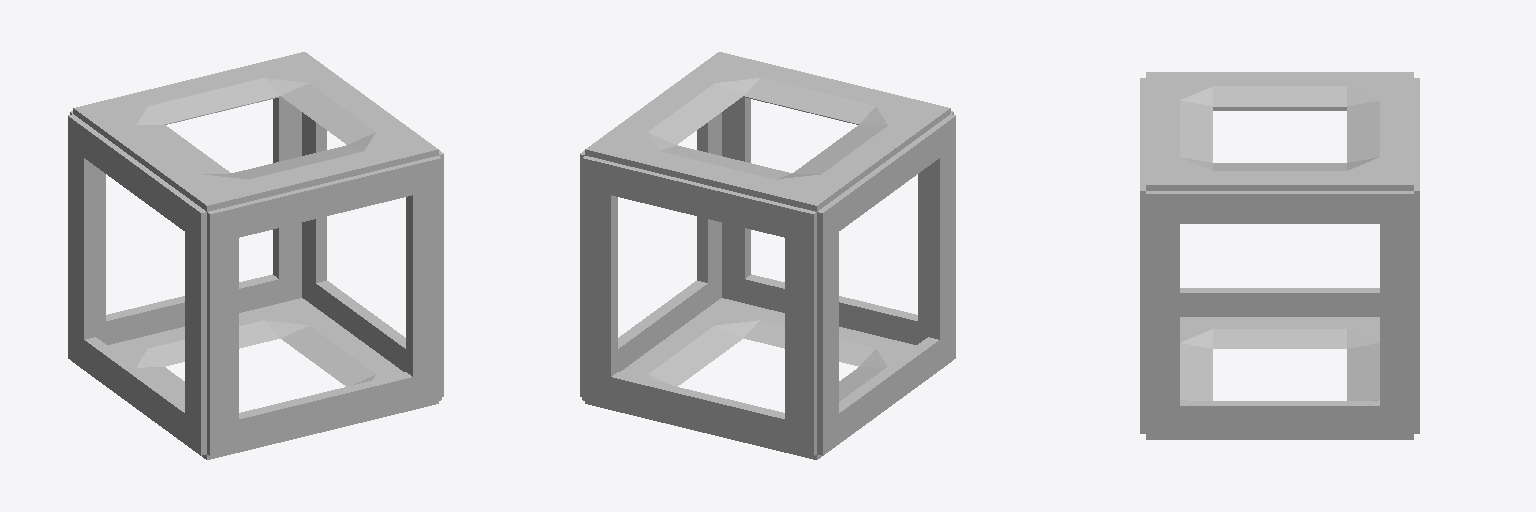
File: 3DMao_02_01.obj
3 renders of one model, left to right at view 1: azimuth 30°, elevation 25°; view 2: azimuth 150°, elevation 25°; view 3: azimuth 270°, elevation 25°, orthographic.
Visible parts, largest first — view 1: 立方体.006; view 2: 立方体.006; view 3: 立方体.006.
Boxes of the visible parts, x1=… form: 立方体.006: x1=68, y1=52, x2=443, y2=459; 立方体.006: x1=580, y1=52, x2=955, y2=459; 立方体.006: x1=1140, y1=72, x2=1419, y2=439.
Bounding box in the file's own units: 42 × 42 × 42.